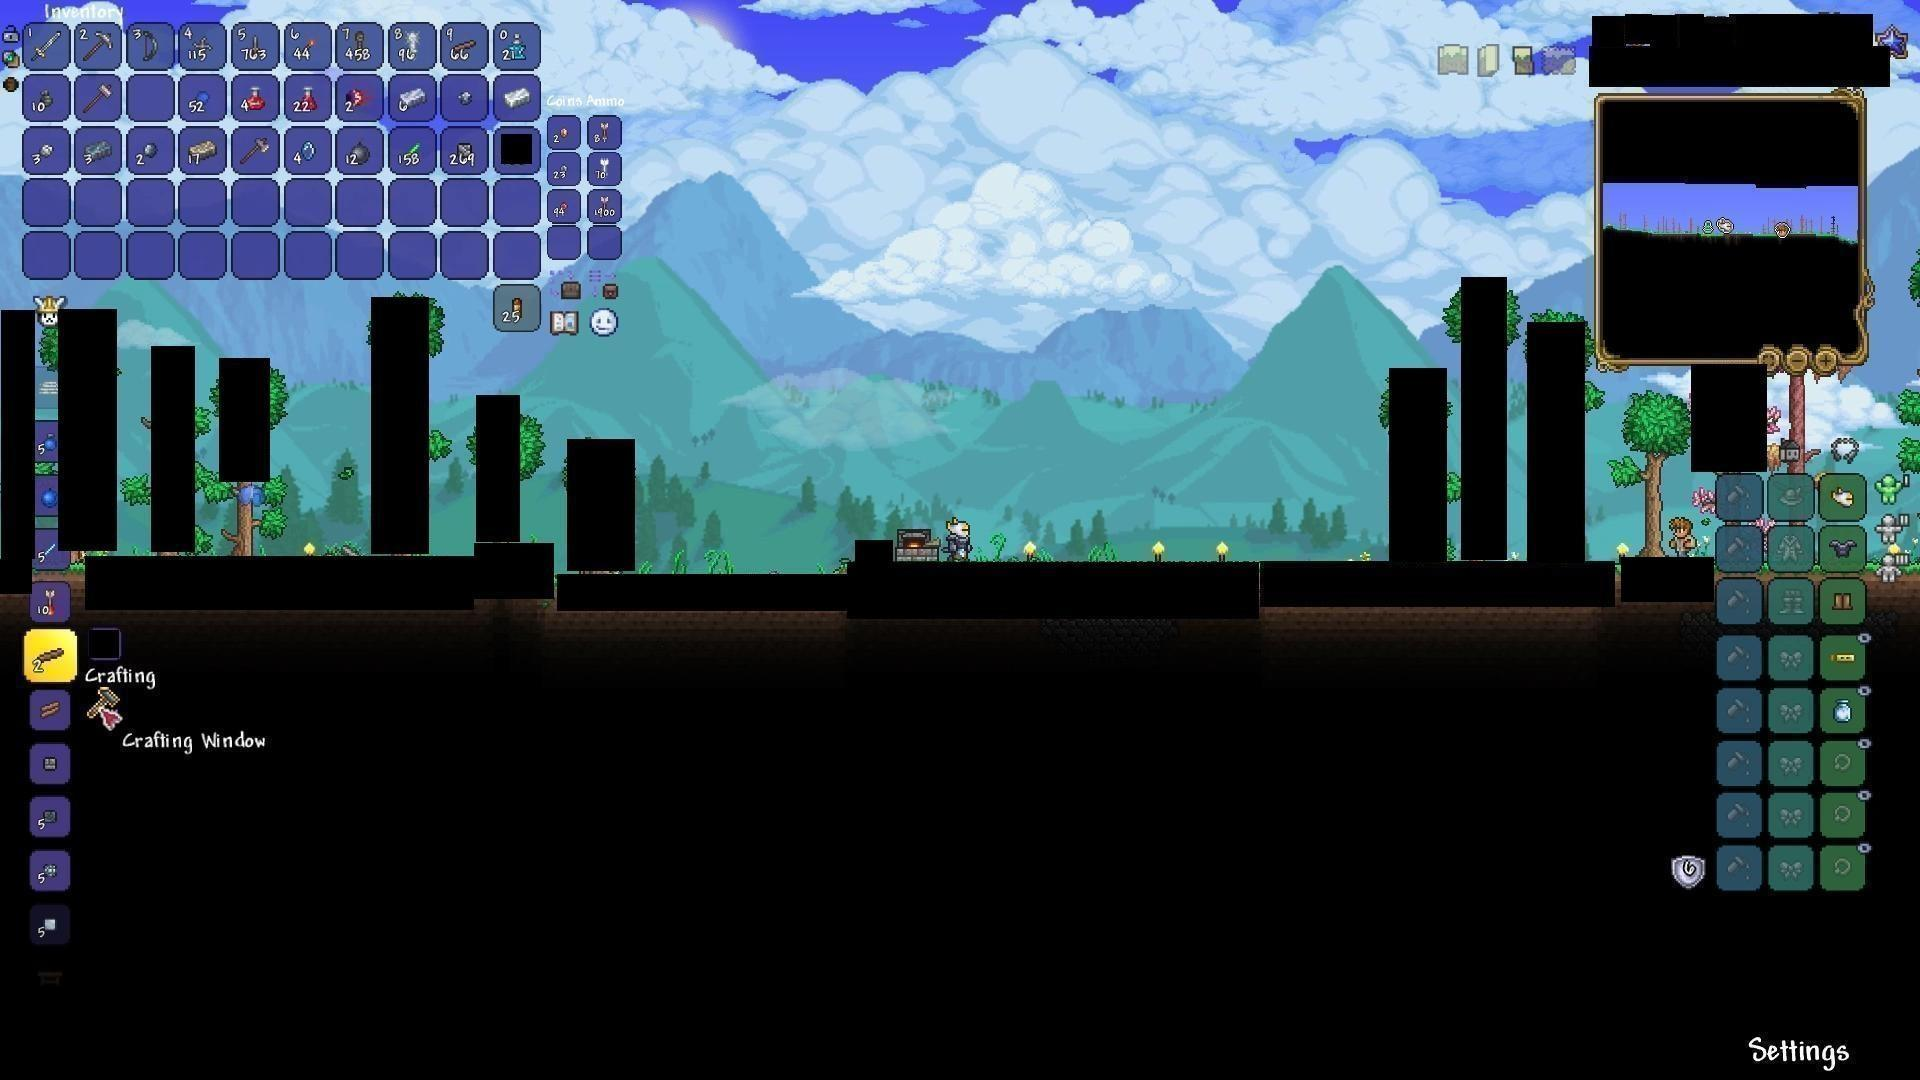breastplate: (1830, 539, 1858, 559)
legs: (1830, 589, 1857, 615)
slime: (232, 484, 266, 509)
tree: (1630, 392, 1688, 554)
wood: (37, 696, 65, 723)
